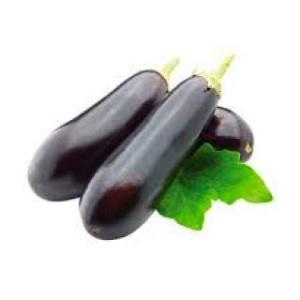eggplant: (79, 73, 219, 237), (28, 72, 162, 200)
